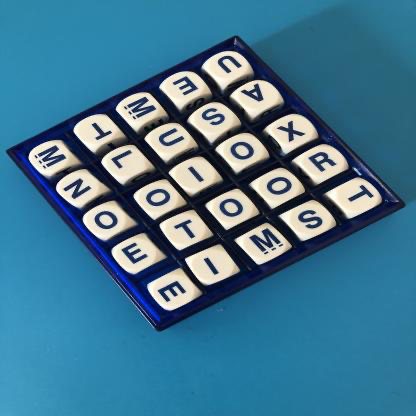a: (237, 81, 281, 113)
e: (151, 274, 199, 311), (115, 239, 159, 271), (167, 73, 205, 103)
i: (189, 249, 235, 281), (172, 160, 216, 189)
l: (107, 148, 148, 179)
m: (242, 229, 286, 260), (30, 142, 71, 174), (122, 93, 162, 125)
n: (59, 173, 100, 203)
o: (259, 172, 301, 202), (139, 183, 181, 212), (210, 195, 252, 224), (88, 205, 126, 237), (224, 137, 263, 166)
r: (300, 148, 348, 181)
s: (194, 105, 235, 136), (290, 206, 331, 237)
t: (337, 180, 380, 213), (164, 215, 206, 245), (79, 117, 120, 147)
u: (149, 124, 193, 152), (211, 51, 249, 82)
x: (272, 116, 315, 149)
